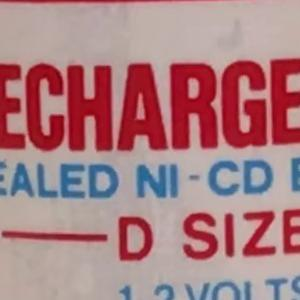keyword: (126, 150, 283, 208)
